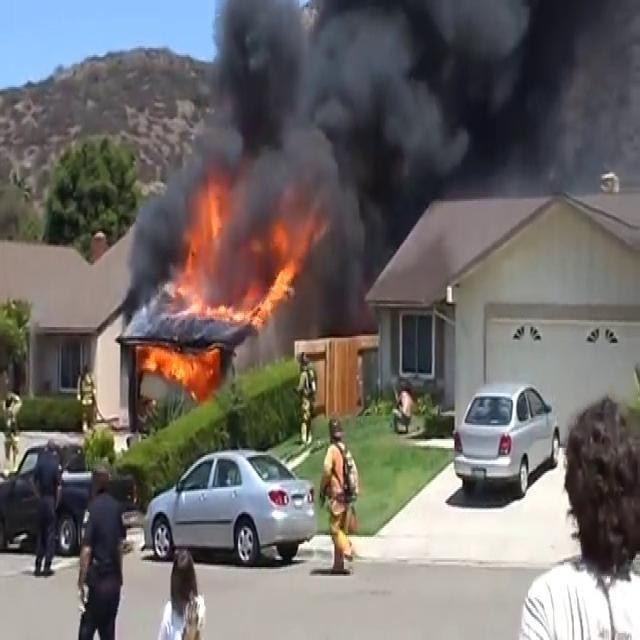Fire: (148, 186, 314, 354), (132, 339, 220, 397)
Smoke: (135, 0, 638, 286)
